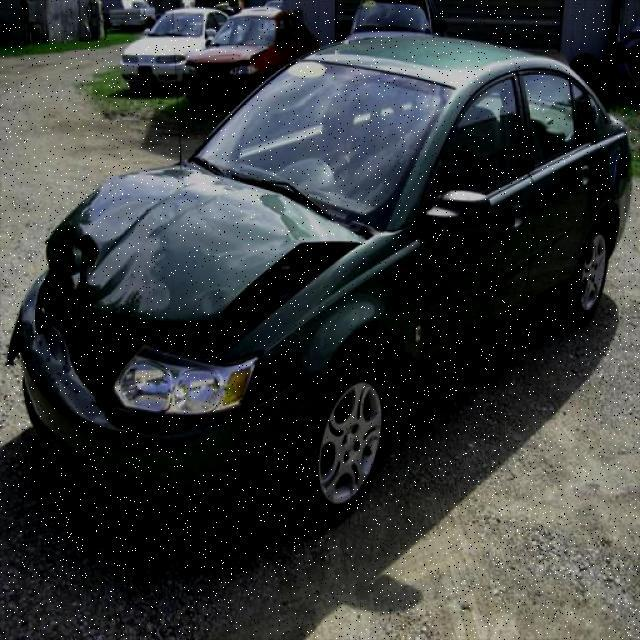car damage: (49, 164, 365, 319), (34, 314, 90, 396), (70, 236, 99, 285)
